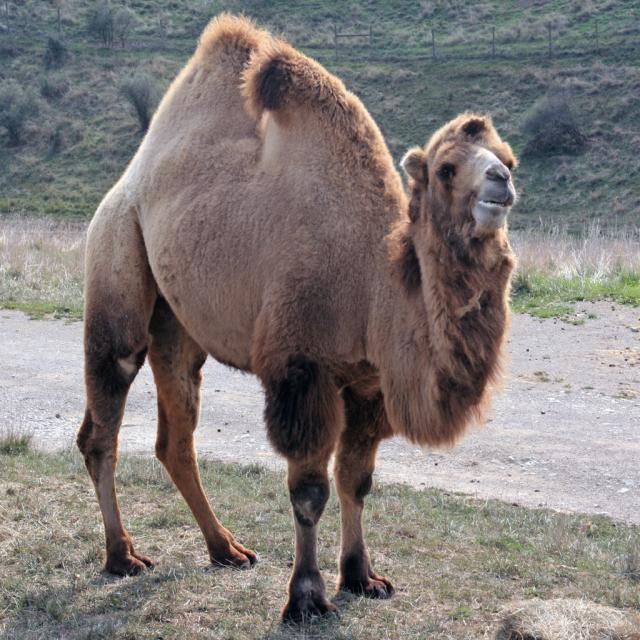camel: (69, 18, 578, 588)
